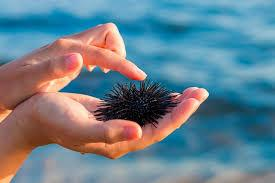urchin: (93, 74, 179, 130)
